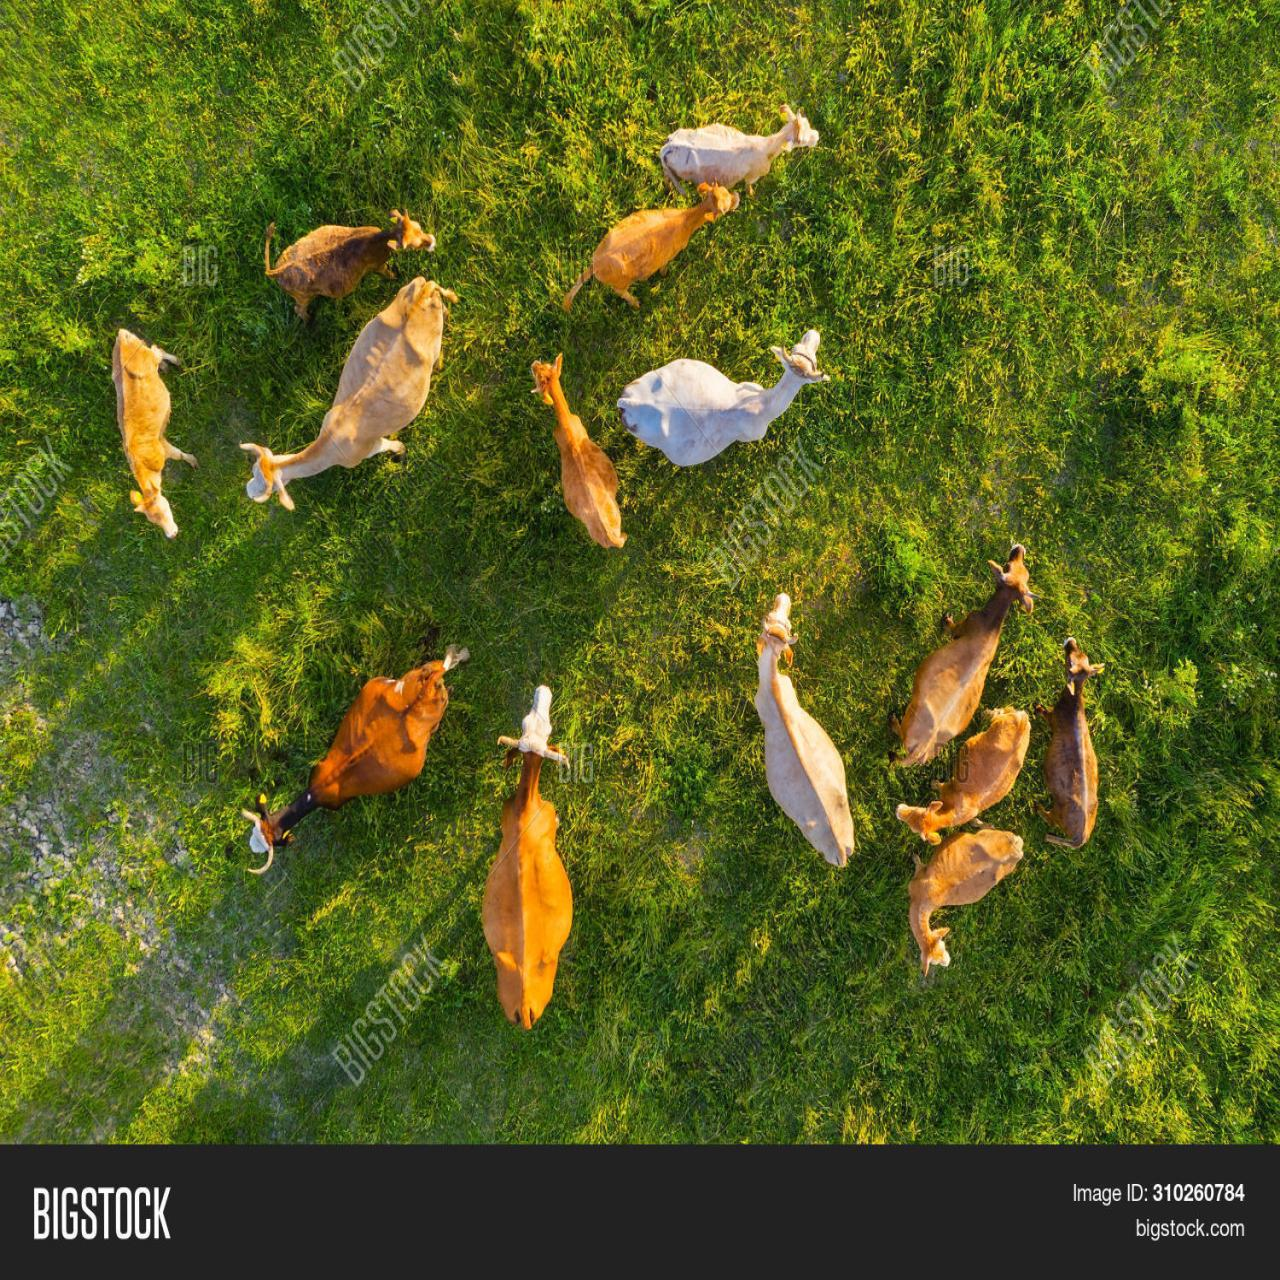cow: (226, 635, 485, 876), (451, 667, 594, 1058), (229, 270, 467, 493), (618, 300, 840, 506), (726, 567, 866, 877), (884, 546, 1046, 783), (250, 204, 456, 349), (95, 305, 207, 563), (891, 692, 1046, 853), (1028, 636, 1139, 850), (560, 176, 740, 308), (519, 339, 624, 561), (899, 823, 1030, 975)
